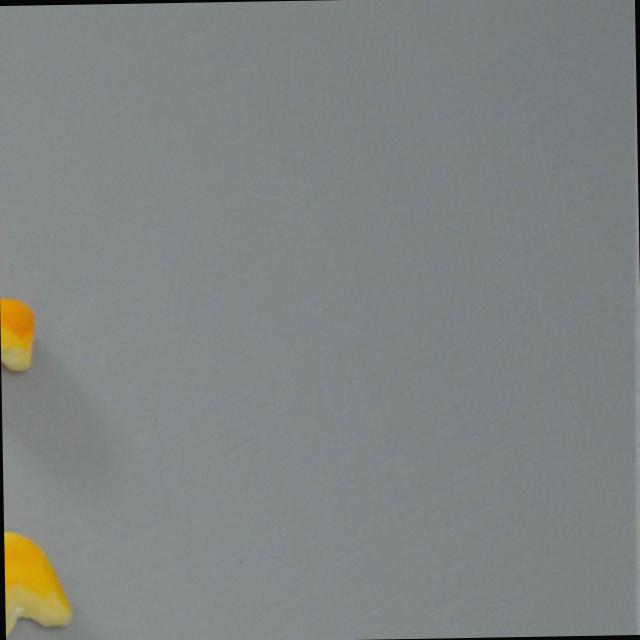no_canjicado: (4, 528, 74, 640)
pelicula: (0, 297, 36, 374)
